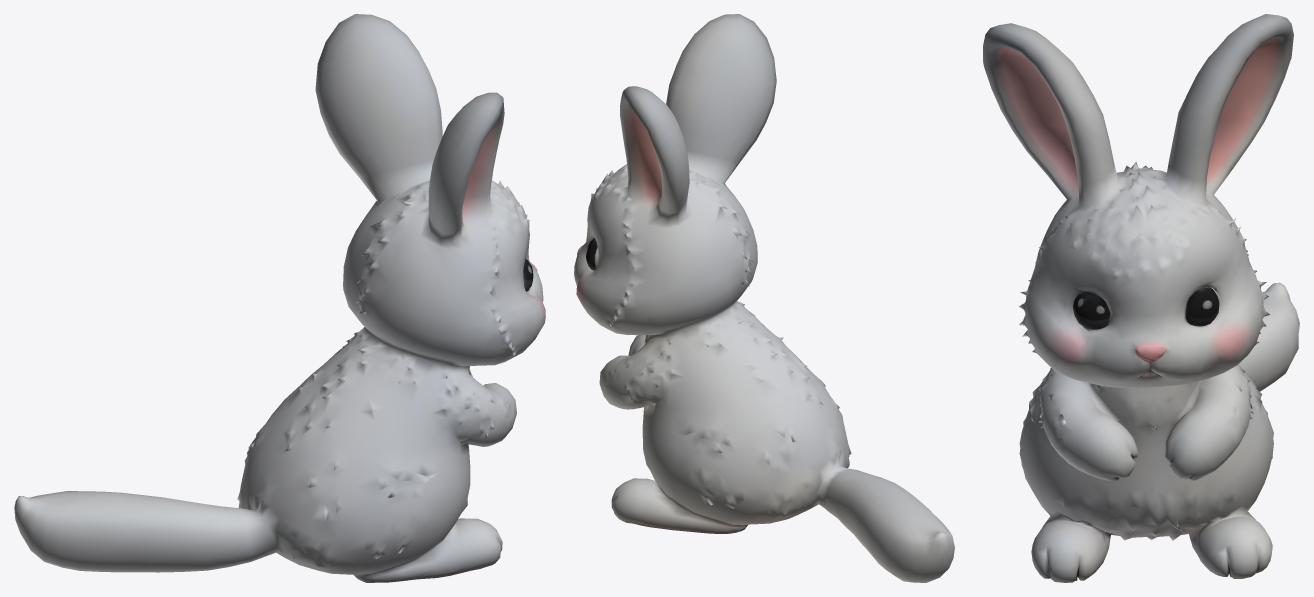
The model's file is rabbit.glb.
The picture shows the model from 3 angles, left to right: view 1: azimuth 30°, elevation 25°; view 2: azimuth 150°, elevation 25°; view 3: azimuth 270°, elevation 25°; orthographic projection. The views are drawn at different scales.
Visible parts, largest first — view 1: tripo_node_38a60036-ec6e-49a3-853f-4e34539e93b1; view 2: tripo_node_38a60036-ec6e-49a3-853f-4e34539e93b1; view 3: tripo_node_38a60036-ec6e-49a3-853f-4e34539e93b1.
Part boxes in pixels (x1,y1,x2,y2): tripo_node_38a60036-ec6e-49a3-853f-4e34539e93b1: (14,14,545,582); tripo_node_38a60036-ec6e-49a3-853f-4e34539e93b1: (574,14,954,582); tripo_node_38a60036-ec6e-49a3-853f-4e34539e93b1: (983,14,1299,582).
Size of the model in its own units: 0.998 by 0.998 by 0.5254.
1 material, 1 textured.
